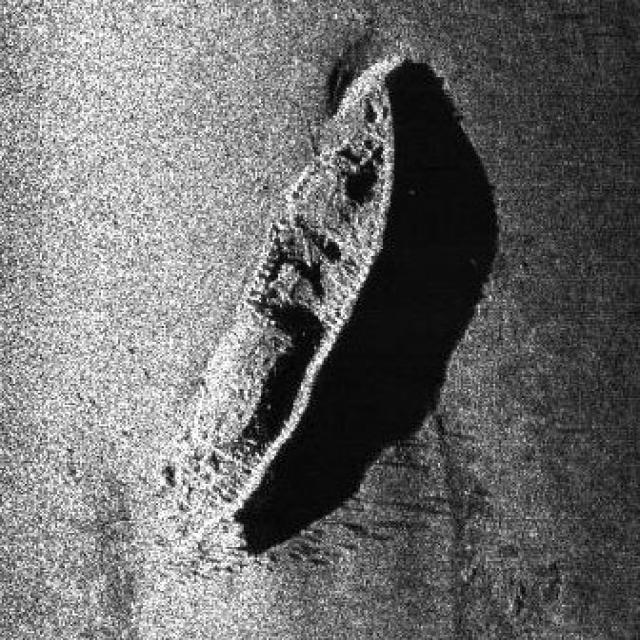shipwreck: (186, 51, 404, 542)
